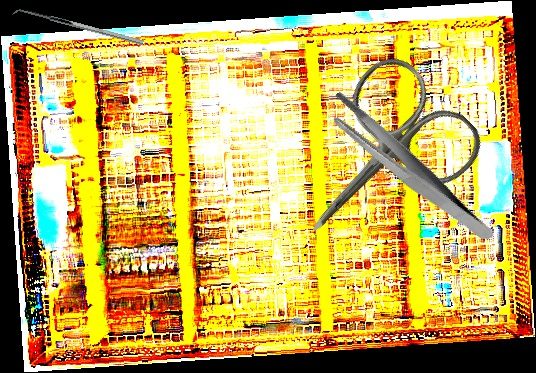Dressing Forceps: (321, 63, 496, 275)
Iris Scissors: (261, 45, 493, 279)
Spatula Surgical: (11, 5, 145, 51)
